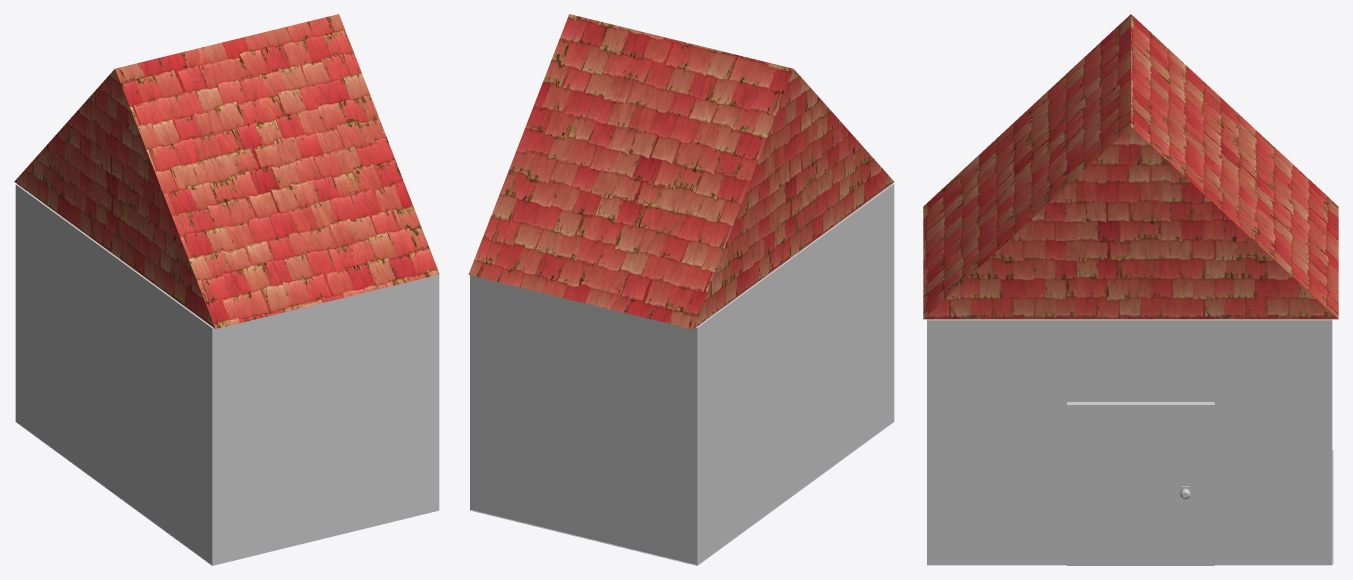
The model's file is HedgeMazeBuilding01.fbx.
The picture shows the model from 3 angles, left to right: view 1: azimuth 30°, elevation 25°; view 2: azimuth 150°, elevation 25°; view 3: azimuth 270°, elevation 25°; orthographic projection. The views are drawn at different scales.
Visible parts, largest first — view 1: MainHouse, Roof; view 2: MainHouse, Roof; view 3: Roof, MainHouse, Door.
Boxes of the visible parts, x1,y1,x2,y2 form: MainHouse: [15, 184, 439, 565]; Roof: [14, 14, 439, 328]; MainHouse: [470, 183, 894, 565]; Roof: [468, 14, 893, 329]; Roof: [923, 14, 1338, 319]; MainHouse: [927, 319, 1332, 565]; Door: [1067, 402, 1214, 565].
Size of the model in its own units: 7499 by 12438 by 10694.
